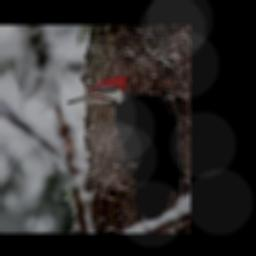Woodpecker: (67, 74, 176, 220)
